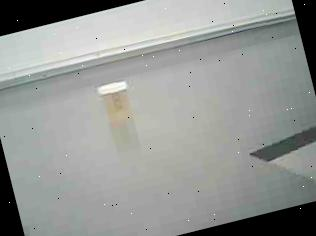Bottle B: (89, 72, 144, 137)
